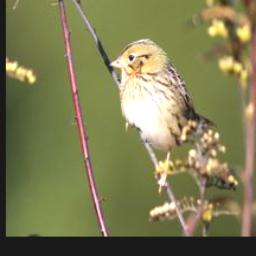Sparrow: (108, 37, 218, 194)
